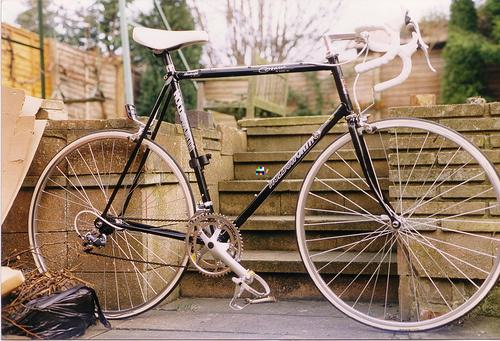car: (25, 10, 496, 333)
